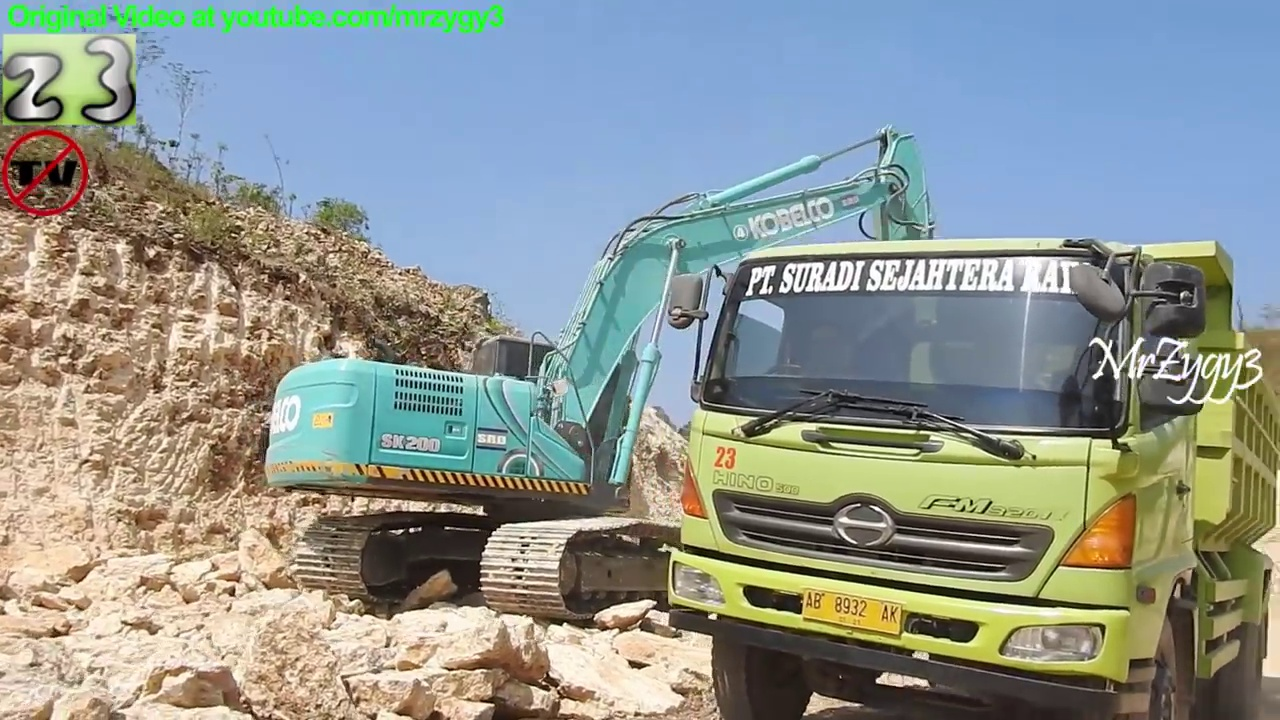excavator: (255, 117, 1006, 633)
truck: (658, 230, 1280, 720)
